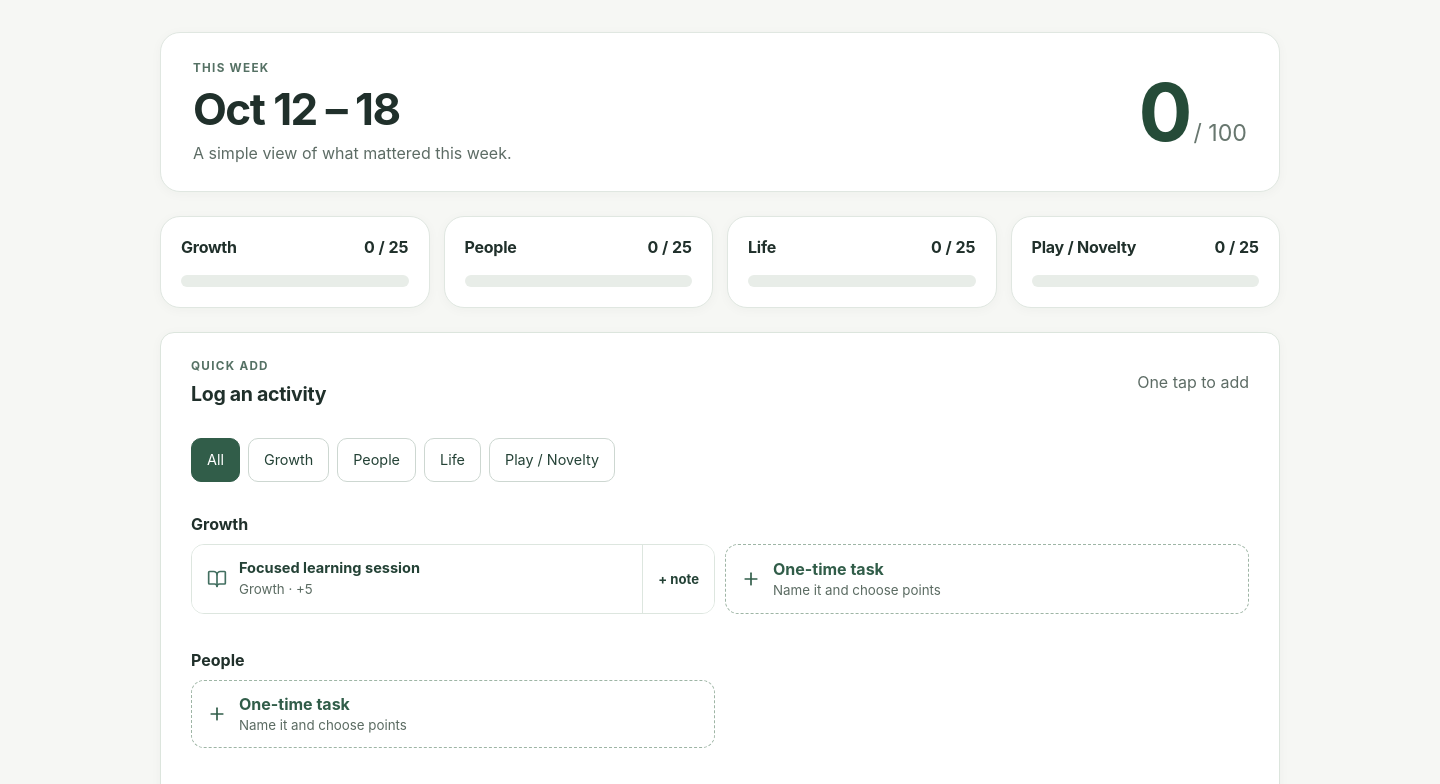
Scenario: dashboard › saves and edits a task note without logging points
Click the button "+ note". click: (678, 579)
box: [642,545,714,613]
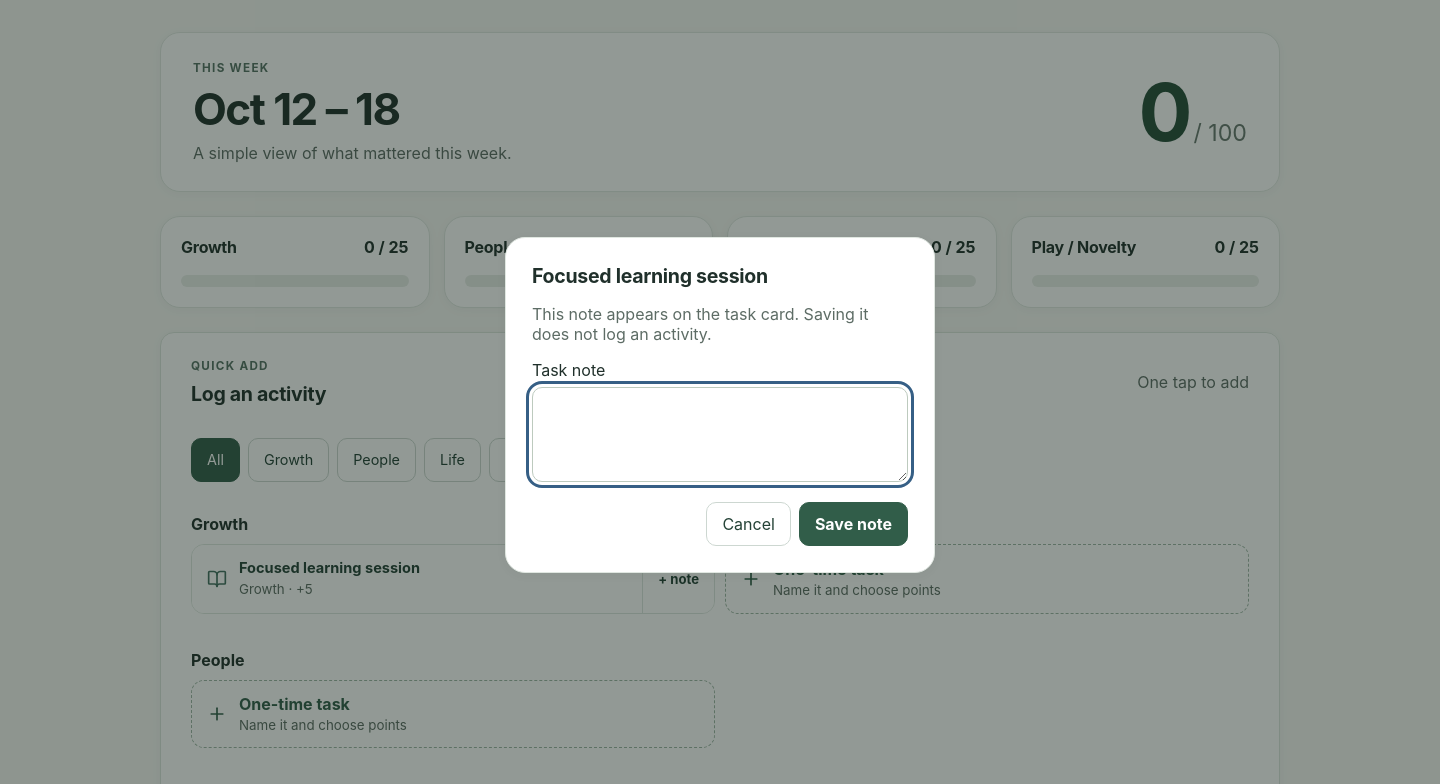
Type "Practised a new skill" into the text box labelled "Task note". click: (720, 435)
box: [532,387,908,482]
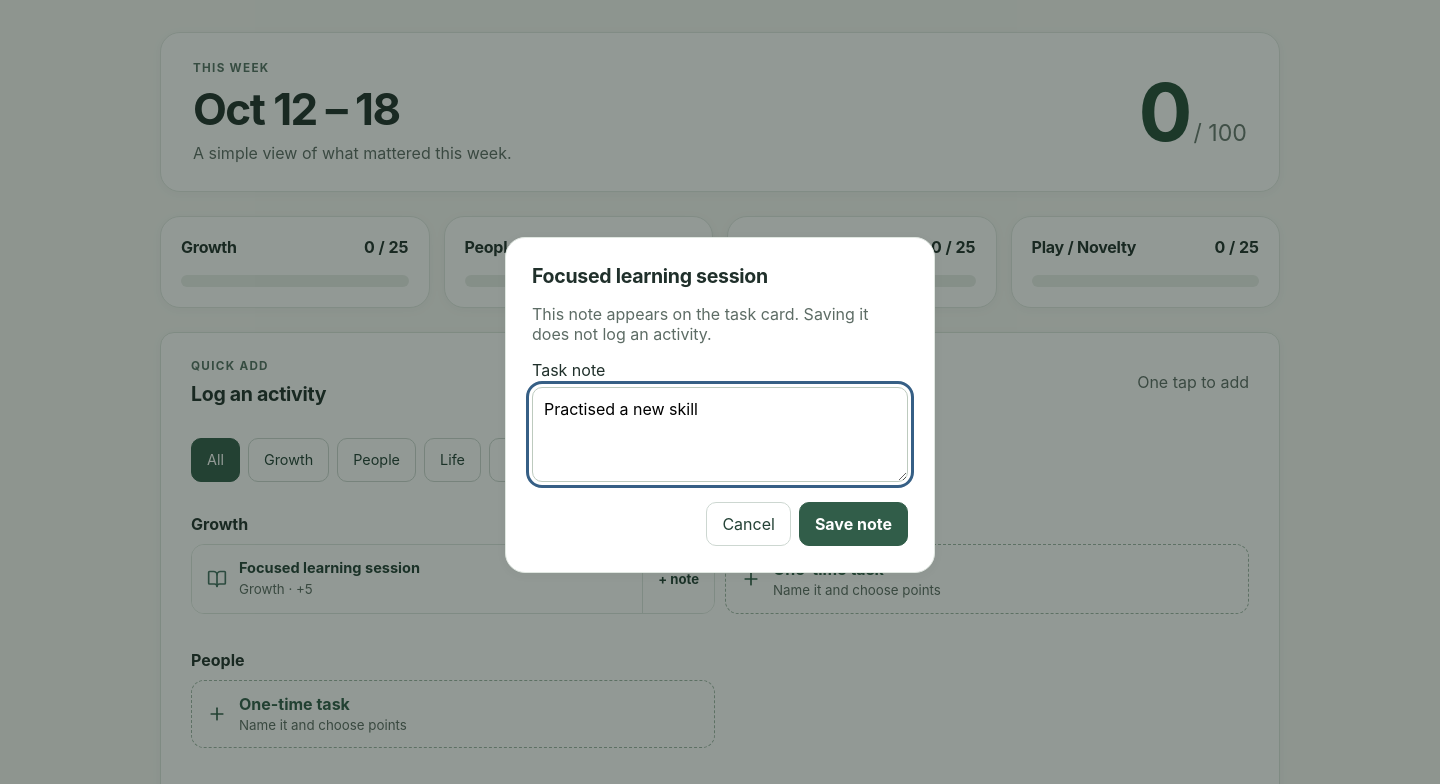
Click the button "Save note". click: (853, 524)
box: [799,502,908,546]
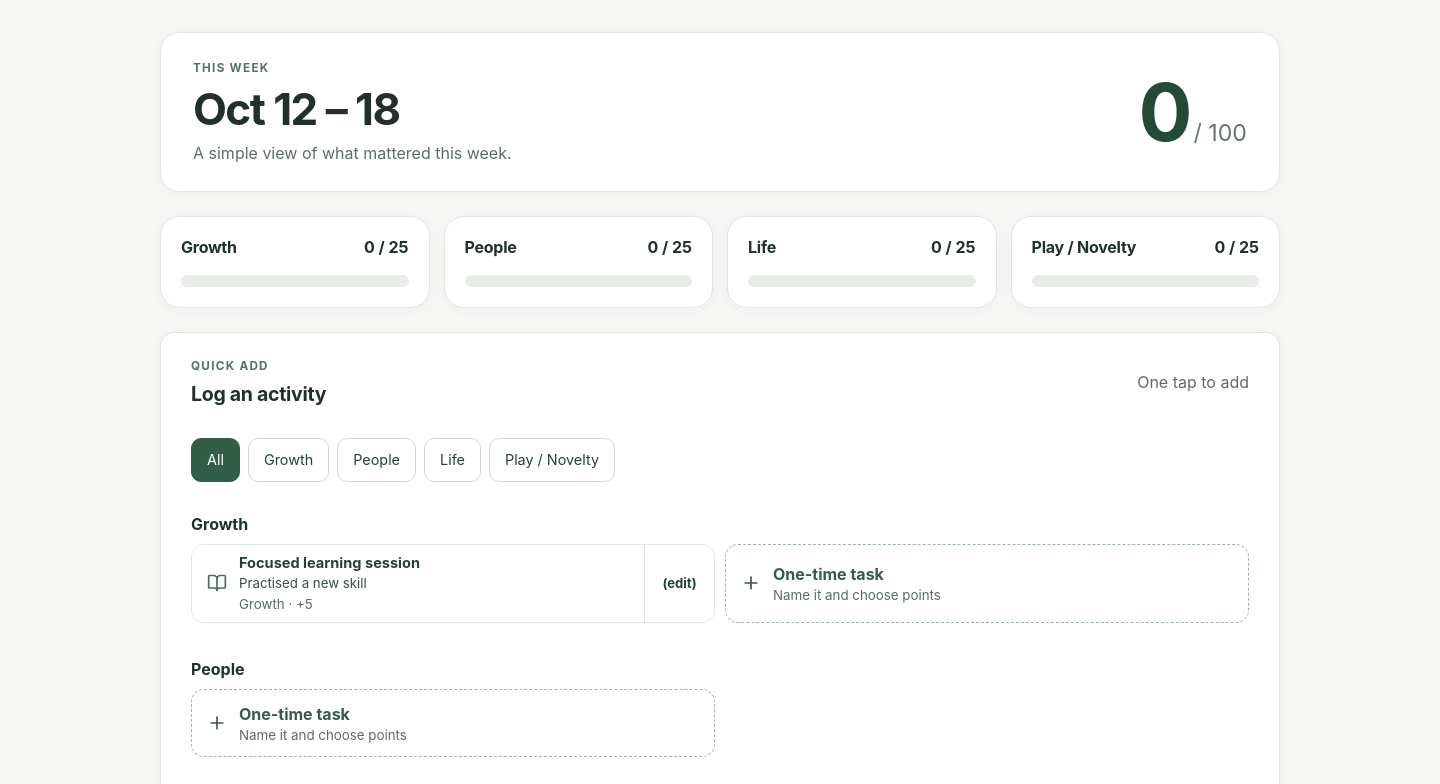
Check: the element named "Weekly score 0 out of 100" is shown, box [1138,63,1247,160]
Check: the text "Practised a new skill" is shown, box [239,575,367,591]
Click the button "(edit)". click: (679, 583)
box: [644,545,714,622]
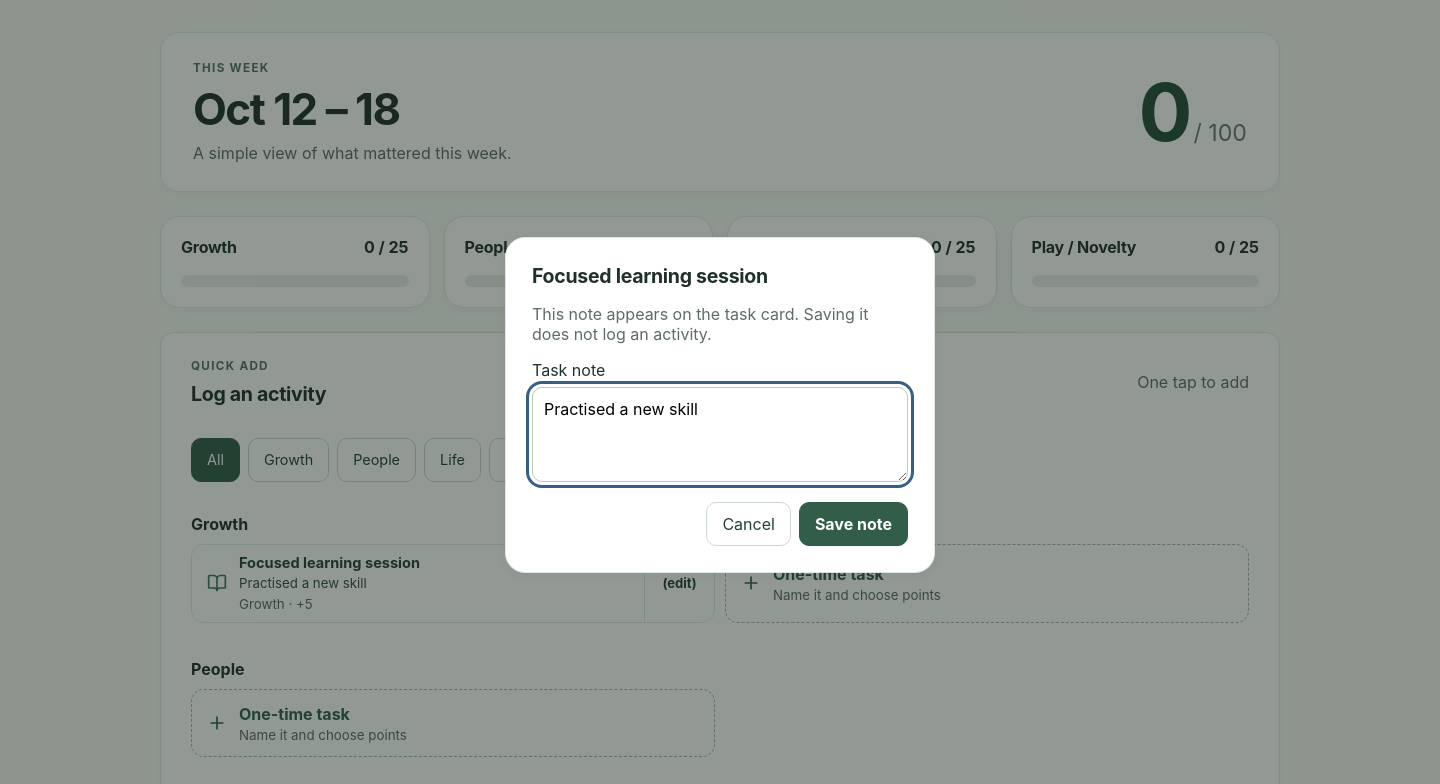
Check: the text box labelled "Task note" holds "Practised a new skill", box [532,387,908,482]
